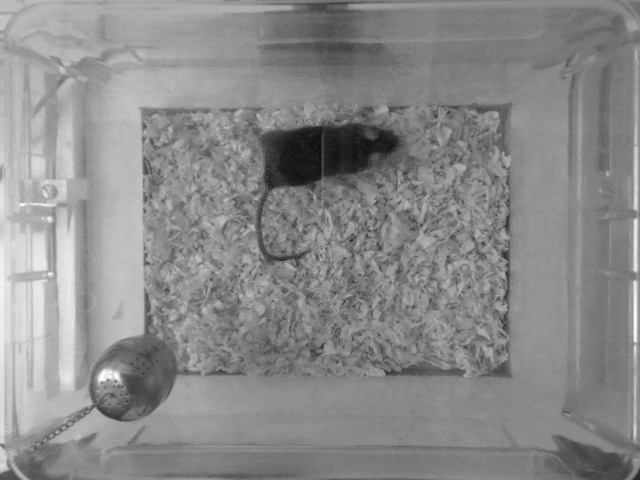mice: (249, 123, 401, 268)
